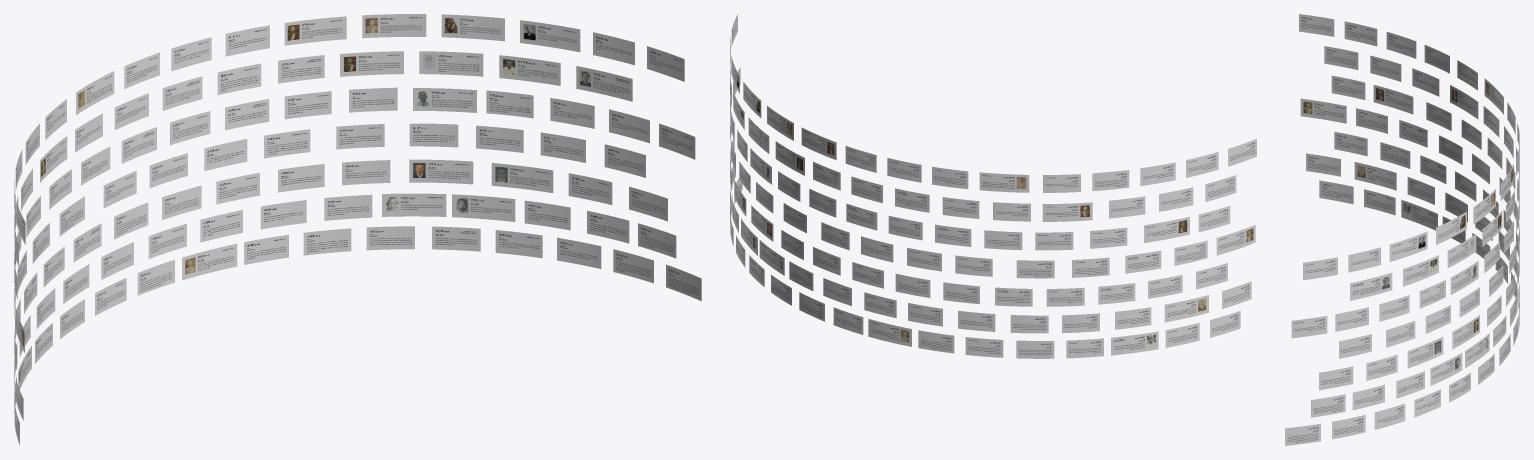
Rendered from stairs.glb.
3 renders of one model, left to right at view 1: azimuth 30°, elevation 25°; view 2: azimuth 150°, elevation 25°; view 3: azimuth 270°, elevation 25°, orthographic. The views are drawn at different scales.
Bounding box in the file's own units: 3.31 × 1.76 × 1.31.
Materials: 9 (7 with a texture image).
